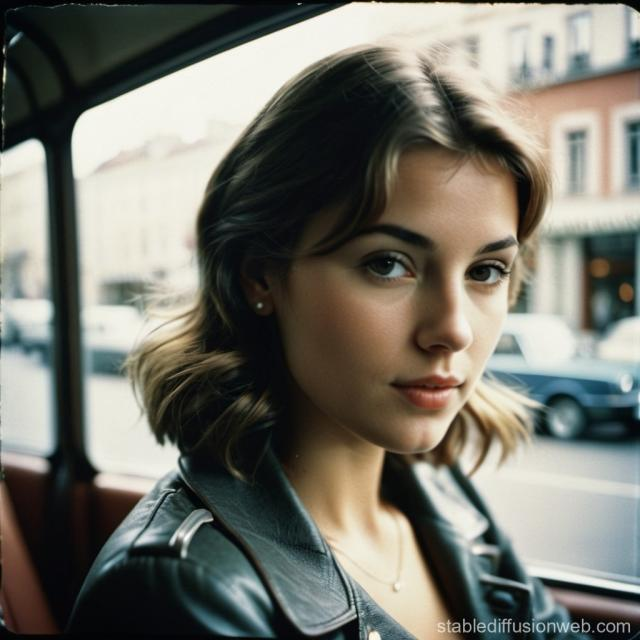front: (367, 228, 508, 422)
